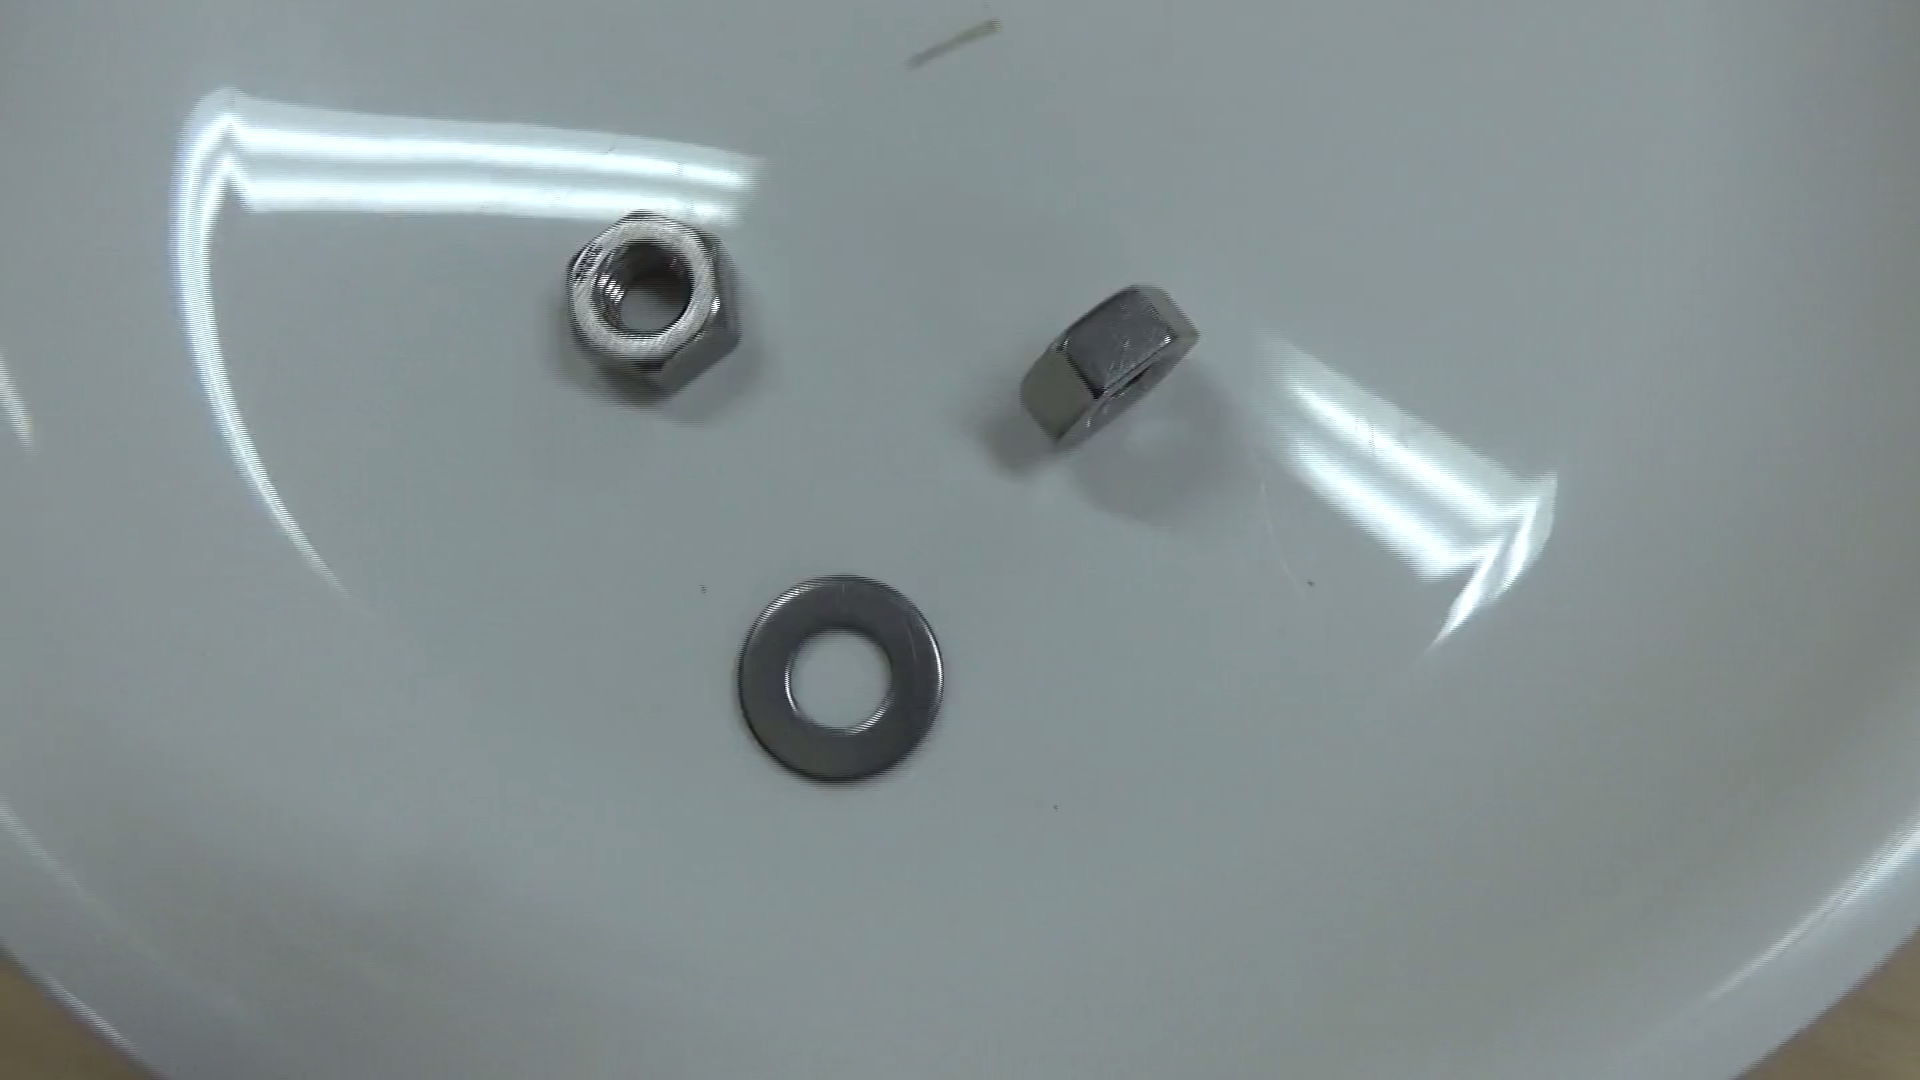nut: (541, 207, 748, 404), (1009, 270, 1205, 471)
washer: (725, 563, 960, 795)
